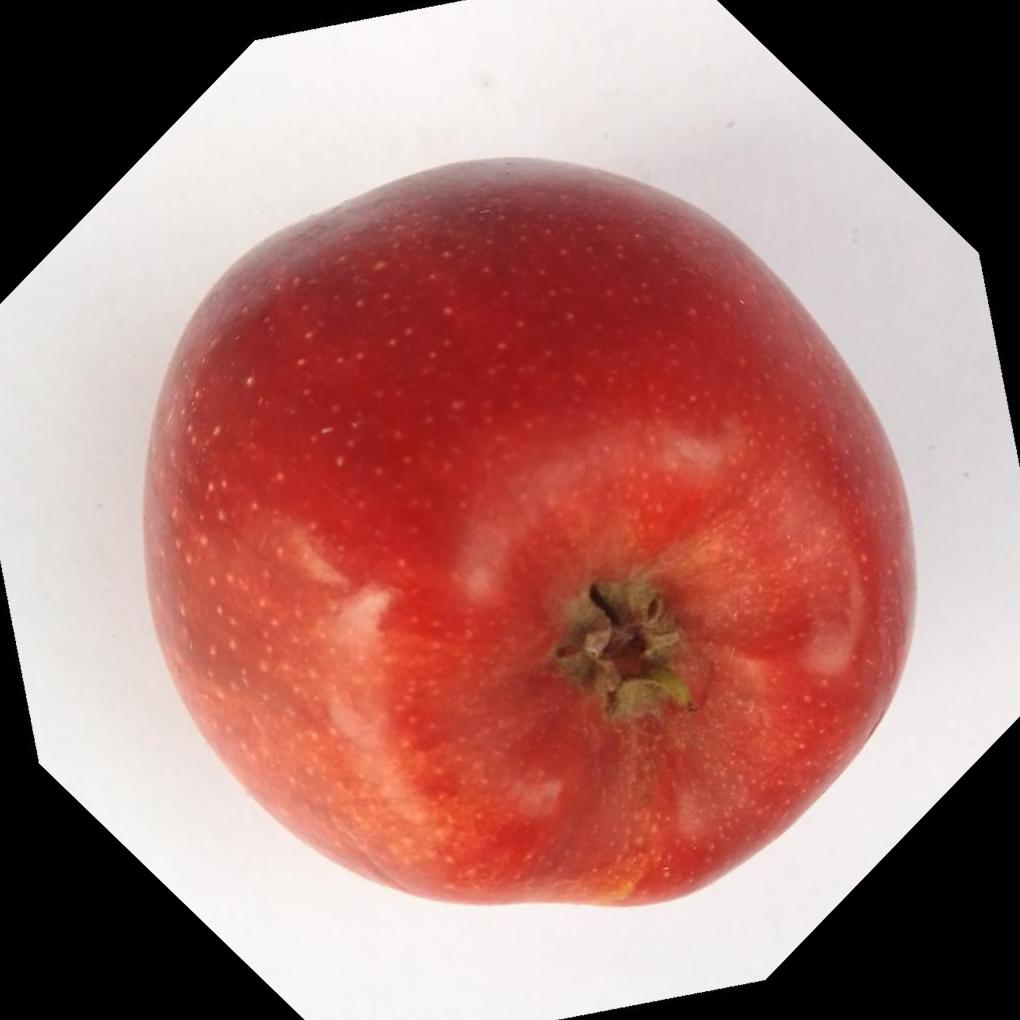FreshGuava: (134, 153, 918, 913)
